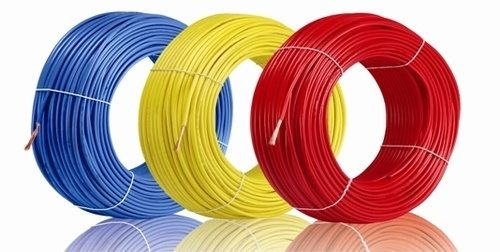Nonrec_Tangler: (252, 3, 474, 228), (23, 6, 244, 229), (139, 9, 367, 224)
